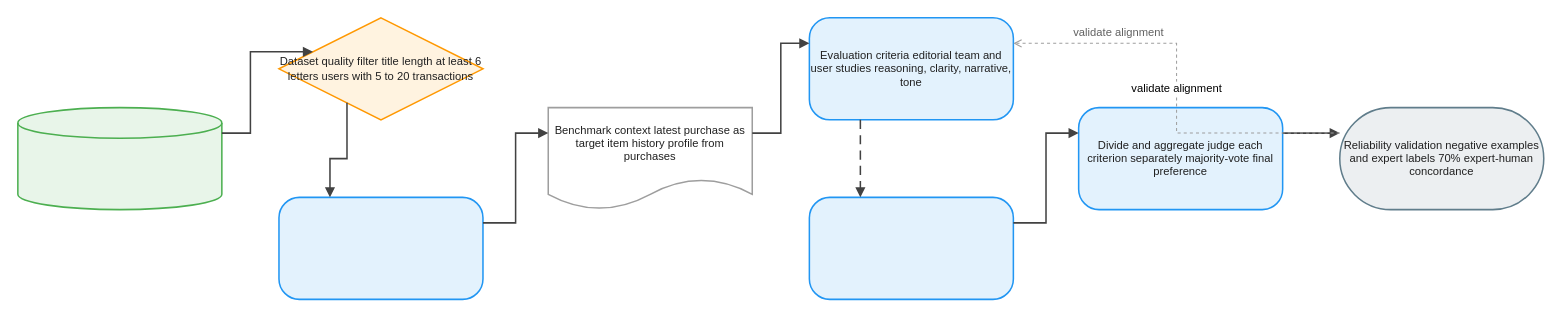
This 1563x318 diagram has some shape labels left out. Here are the shapes that lost their labels. From the top down, the centre of each, then its label:
At [119,158]: "Amazon purchase signals 15 e-commerce categories 5-star user-item interactions".
At [380,248]: "Balanced sampling max 200 behaviors per category 2,761 retained interactions".
At [911,248]: "LLM-powered judges ALERT-Gen CoT comparison ALERT-Disc criterion scores".
